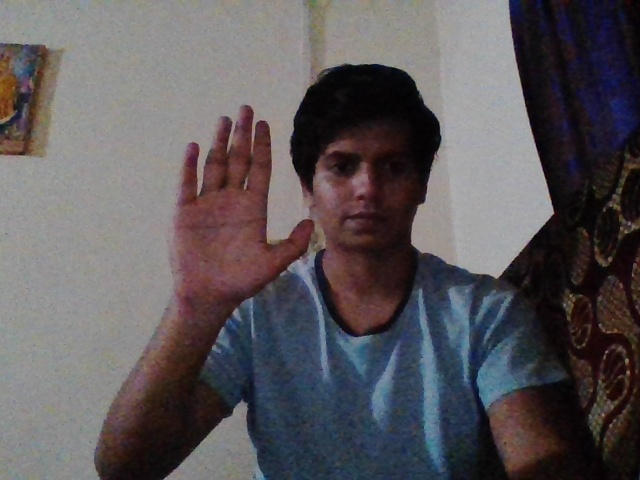hello: (109, 75, 314, 294)
